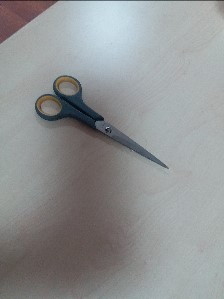scissors: (33, 77, 168, 170)
